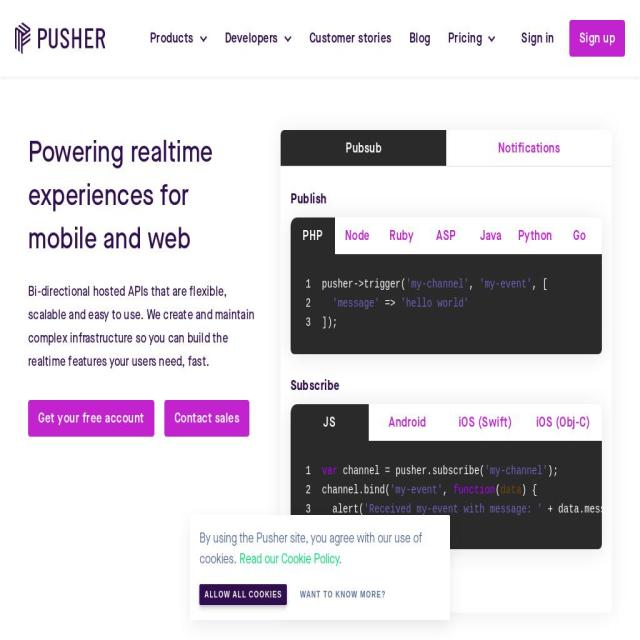button: (446, 130, 612, 166), (281, 130, 446, 166), (28, 400, 154, 437), (164, 400, 249, 437), (287, 582, 399, 608), (368, 404, 446, 441), (446, 404, 524, 441), (524, 404, 602, 441), (291, 404, 368, 441), (15, 23, 106, 54), (291, 563, 365, 599), (28, 409, 154, 427), (569, 20, 625, 57), (200, 584, 288, 605), (290, 218, 336, 254), (512, 218, 558, 254), (335, 218, 380, 254), (468, 218, 513, 254), (557, 218, 602, 254), (380, 218, 424, 254), (424, 218, 468, 254), (164, 409, 249, 427), (291, 572, 365, 589), (569, 29, 625, 47)
heading: (28, 130, 260, 260), (290, 187, 602, 211), (290, 374, 602, 398)
image: (15, 23, 106, 54), (200, 32, 208, 42), (284, 32, 292, 42), (488, 32, 496, 42)
link: (239, 550, 339, 568), (309, 29, 392, 47), (522, 29, 554, 47), (408, 29, 431, 47)
text: (28, 280, 262, 373), (199, 529, 422, 568), (322, 314, 602, 332), (322, 520, 602, 538), (364, 502, 543, 516), (337, 464, 485, 478), (542, 502, 632, 516), (322, 277, 406, 291), (224, 29, 278, 47), (322, 483, 390, 497), (400, 297, 470, 310), (406, 277, 470, 291), (484, 464, 548, 478), (149, 29, 194, 47), (390, 483, 443, 497), (480, 277, 532, 291), (448, 29, 482, 47), (332, 297, 379, 310), (453, 483, 496, 497), (322, 502, 364, 516), (379, 297, 402, 310), (500, 483, 521, 497), (532, 277, 548, 291), (322, 464, 337, 478), (469, 277, 480, 291), (442, 483, 453, 497), (548, 464, 558, 478), (522, 483, 532, 497), (495, 483, 501, 497), (532, 483, 538, 497), (339, 550, 342, 568)
